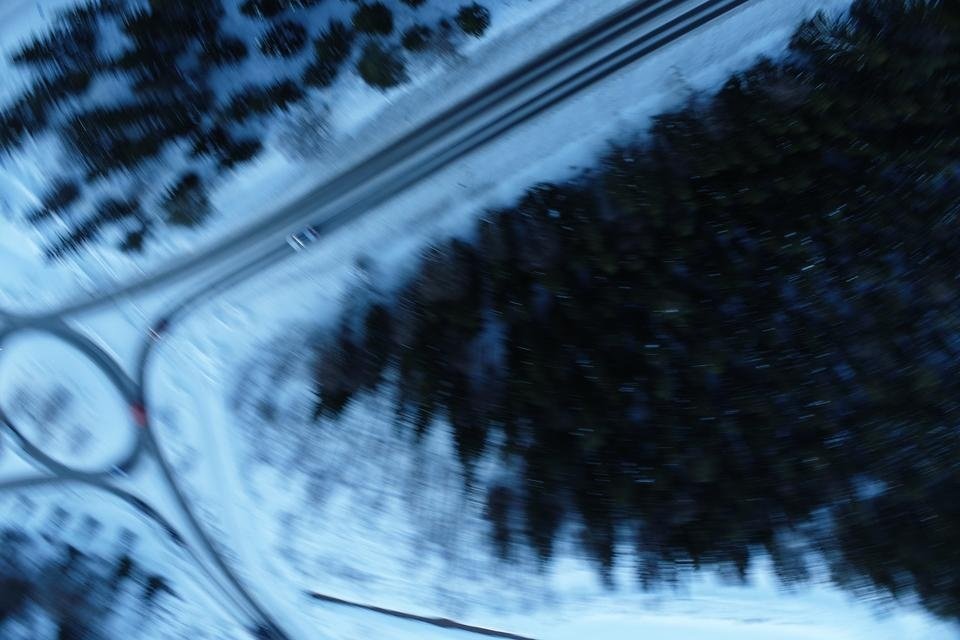roundabout: (0, 274, 193, 522)
